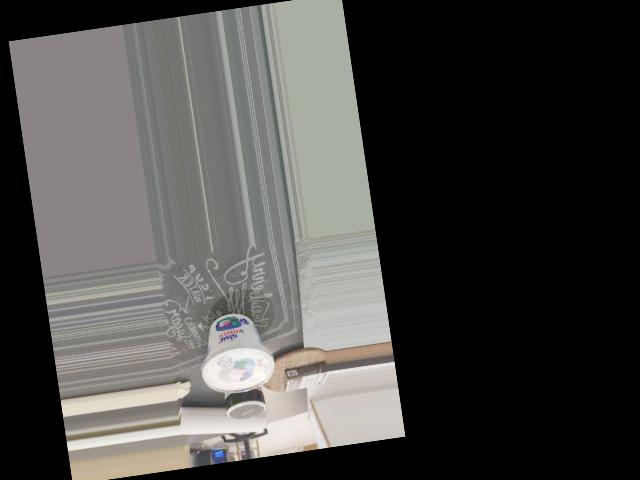cotage: (193, 304, 274, 398)
